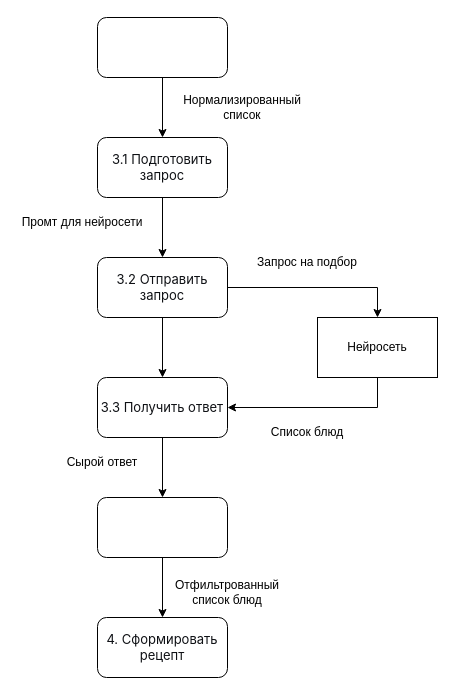
The diagram is 455 pixels wide and 695 high, and some of its shapes have lost their labels. The centre of each missing label's shape, as x and y in pixels:
2. Принять список продуктов: pixel 162 47
3.4 Отфильтровать и упорядочить блюда: pixel 162 527
